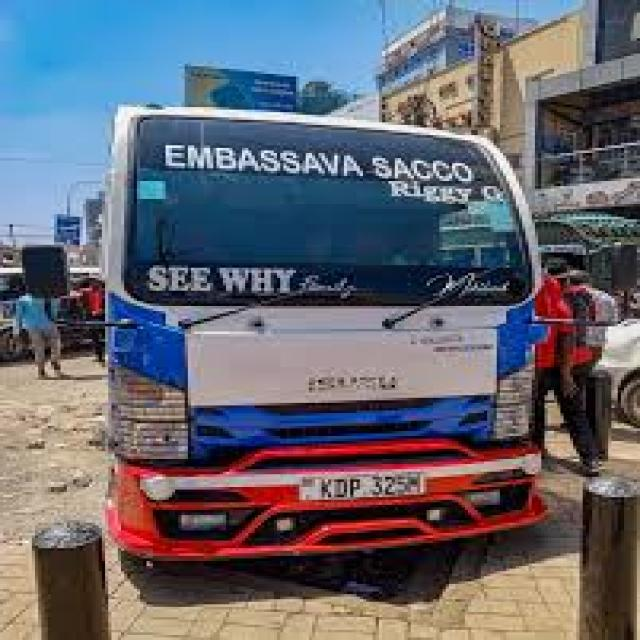bus: (19, 24, 628, 566)
